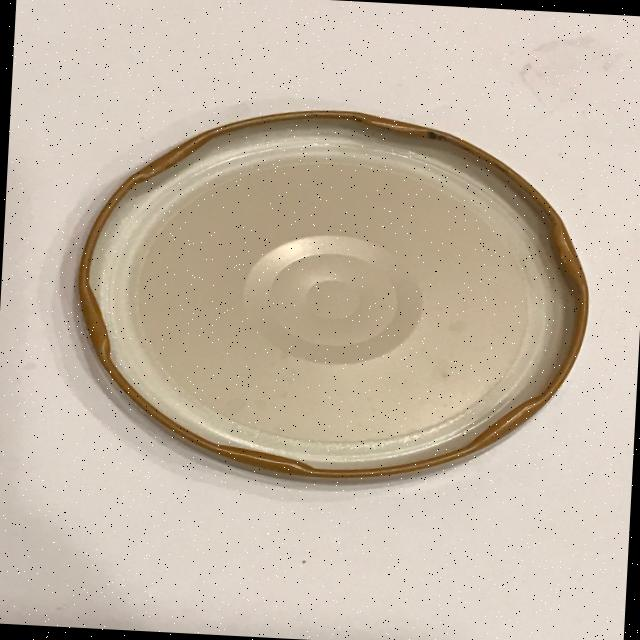metal: (66, 96, 600, 495)
